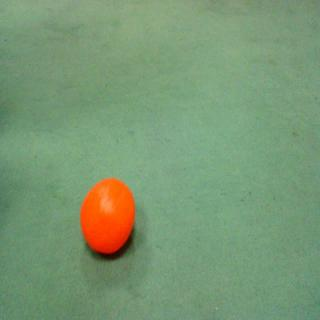orange: (79, 174, 139, 260)
